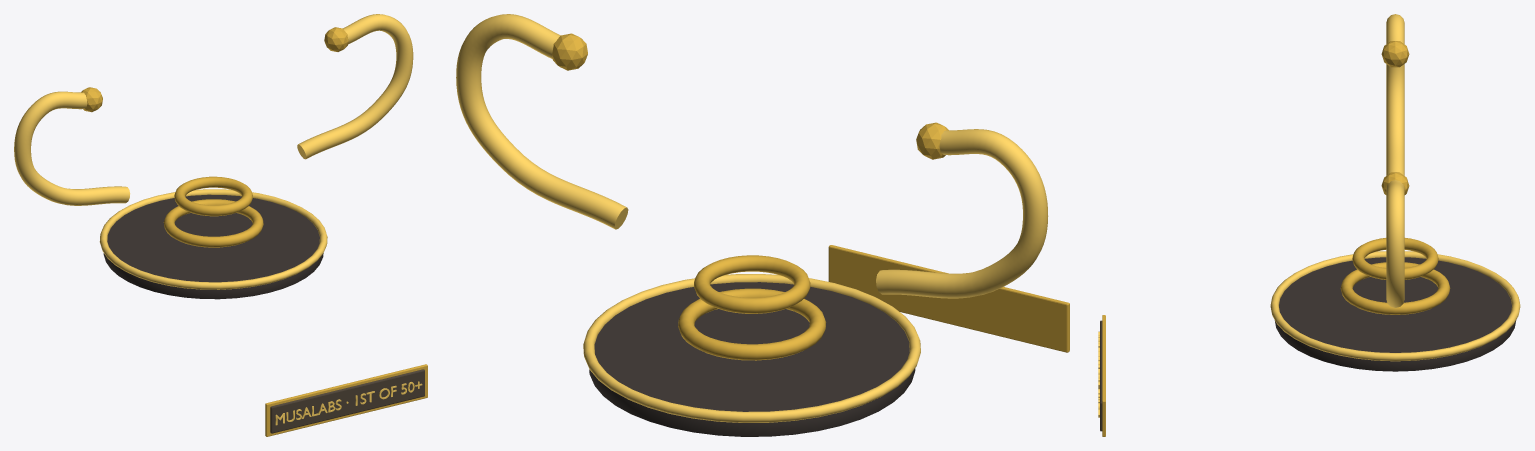
The model's file is trophy_detail.glb.
3 renders of one model, left to right at view 1: azimuth 30°, elevation 25°; view 2: azimuth 150°, elevation 25°; view 3: azimuth 270°, elevation 25°, orthographic. The views are drawn at different scales.
Parts seen in each view (by area): view 1: tr_cap, tr_handle_1, tr_handle_-1, tr_plaque, tr_cap_ring, tr_collar_2.6, tr_collar_3.3, tr_plaque_frame, tr_plaque_txt, tr_handle_cap_1; view 2: tr_cap, tr_plaque_frame, tr_handle_1, tr_handle_-1, tr_cap_ring, tr_collar_2.6, tr_collar_3.3, tr_handle_cap_1, tr_handle_cap_-1; view 3: tr_cap, tr_cap_ring, tr_handle_-1, tr_handle_1, tr_collar_2.6, tr_collar_3.3, tr_handle_cap_-1, tr_plaque_frame.
Boxes of the visible parts, x1,y1,x2,y2 form: tr_cap: (103, 194, 323, 299); tr_handle_1: (297, 14, 413, 159); tr_handle_-1: (14, 91, 130, 205); tr_plaque: (270, 369, 424, 433); tr_cap_ring: (99, 189, 327, 289); tr_collar_2.6: (163, 199, 263, 247); tr_collar_3.3: (174, 176, 252, 216); tr_plaque_frame: (265, 364, 427, 436); tr_plaque_txt: (275, 381, 422, 425); tr_handle_cap_1: (324, 27, 348, 51); tr_cap: (589, 282, 915, 436); tr_plaque_frame: (828, 245, 1069, 352); tr_handle_1: (456, 14, 628, 229); tr_handle_-1: (876, 129, 1048, 298); tr_cap_ring: (583, 274, 920, 422); tr_collar_2.6: (678, 288, 826, 360); tr_collar_3.3: (694, 255, 810, 313); tr_handle_cap_1: (552, 33, 587, 70); tr_handle_cap_-1: (916, 122, 948, 159); tr_cap: (1274, 257, 1516, 371); tr_cap_ring: (1270, 251, 1520, 361); tr_handle_-1: (1386, 14, 1404, 175); tr_handle_1: (1386, 180, 1404, 307); tr_collar_2.6: (1340, 262, 1450, 314); tr_collar_3.3: (1352, 238, 1438, 279); tr_handle_cap_-1: (1381, 41, 1409, 67); tr_plaque_frame: (1102, 315, 1105, 436).
Size of the model in its own units: 10.81 by 6.91 by 9.08.
